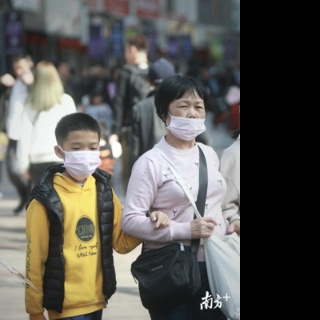with_mask: (164, 96, 207, 142), (63, 139, 100, 180)
